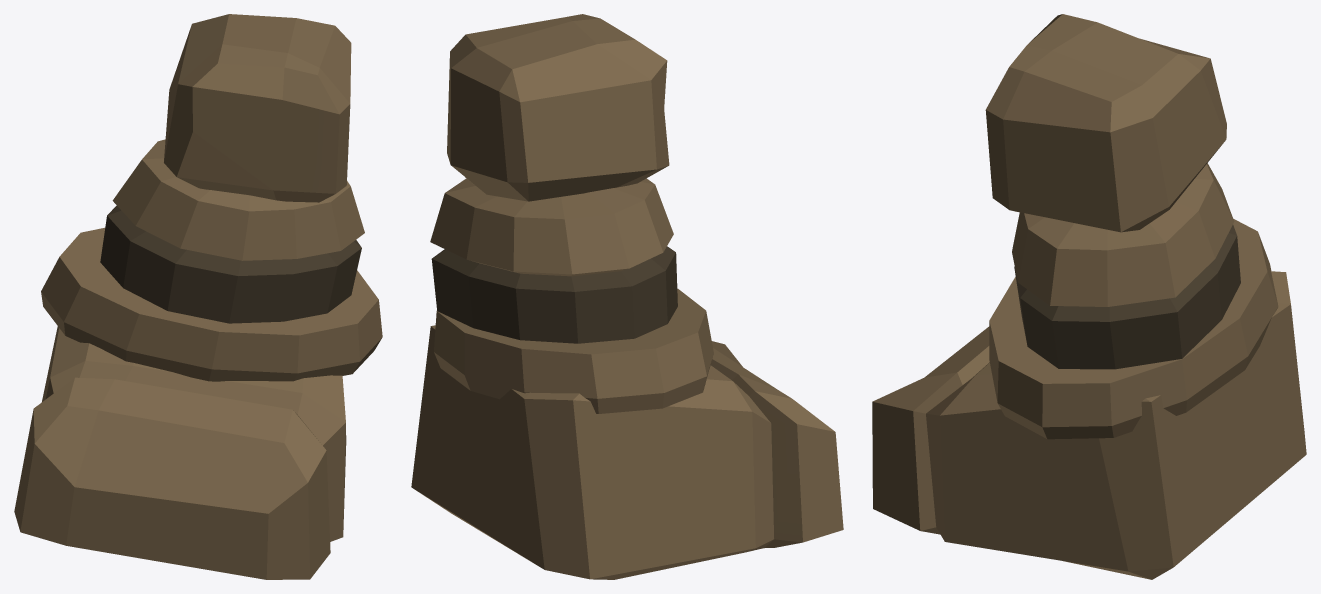
The model's file is leg_r_lower.gltf.
3 views of the same model, side by side, from view 1: azimuth 30°, elevation 25°; view 2: azimuth 150°, elevation 25°; view 3: azimuth 270°, elevation 25° (orthographic). The views are drawn at different scales.
Parts seen in each view (by area): view 1: leg_r_lower; view 2: leg_r_lower; view 3: leg_r_lower.
Part boxes in pixels (left/top/right/bottom): leg_r_lower: left=14, top=14, right=382, bottom=579; leg_r_lower: left=411, top=14, right=843, bottom=579; leg_r_lower: left=872, top=14, right=1306, bottom=579.
Bounding box in the file's own units: 2.87 × 3.53 × 2.74.
1 material, 1 textured.
